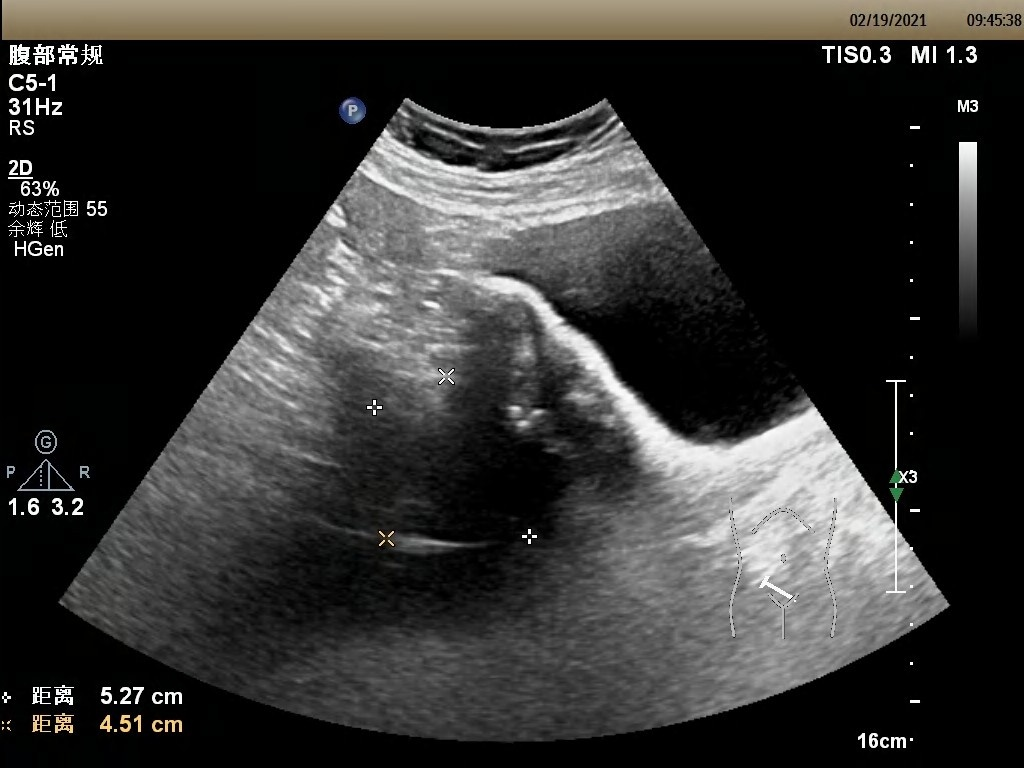肌瘤: (375, 380, 543, 539)
